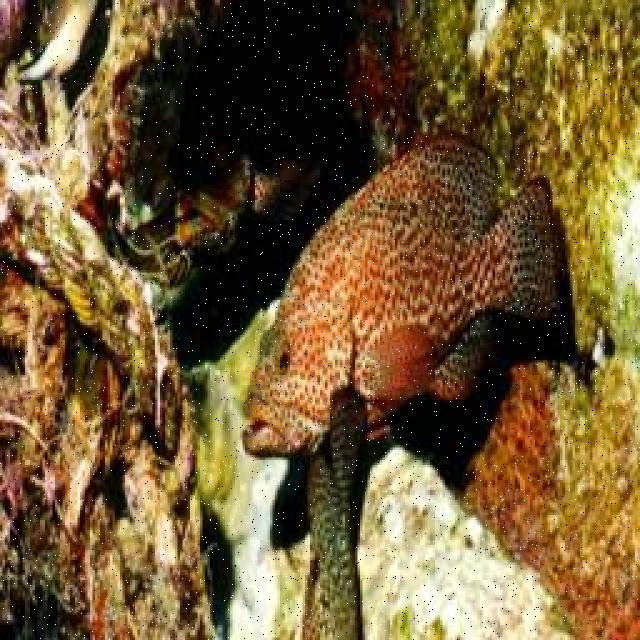fish: (241, 127, 562, 460), (300, 387, 371, 638)
